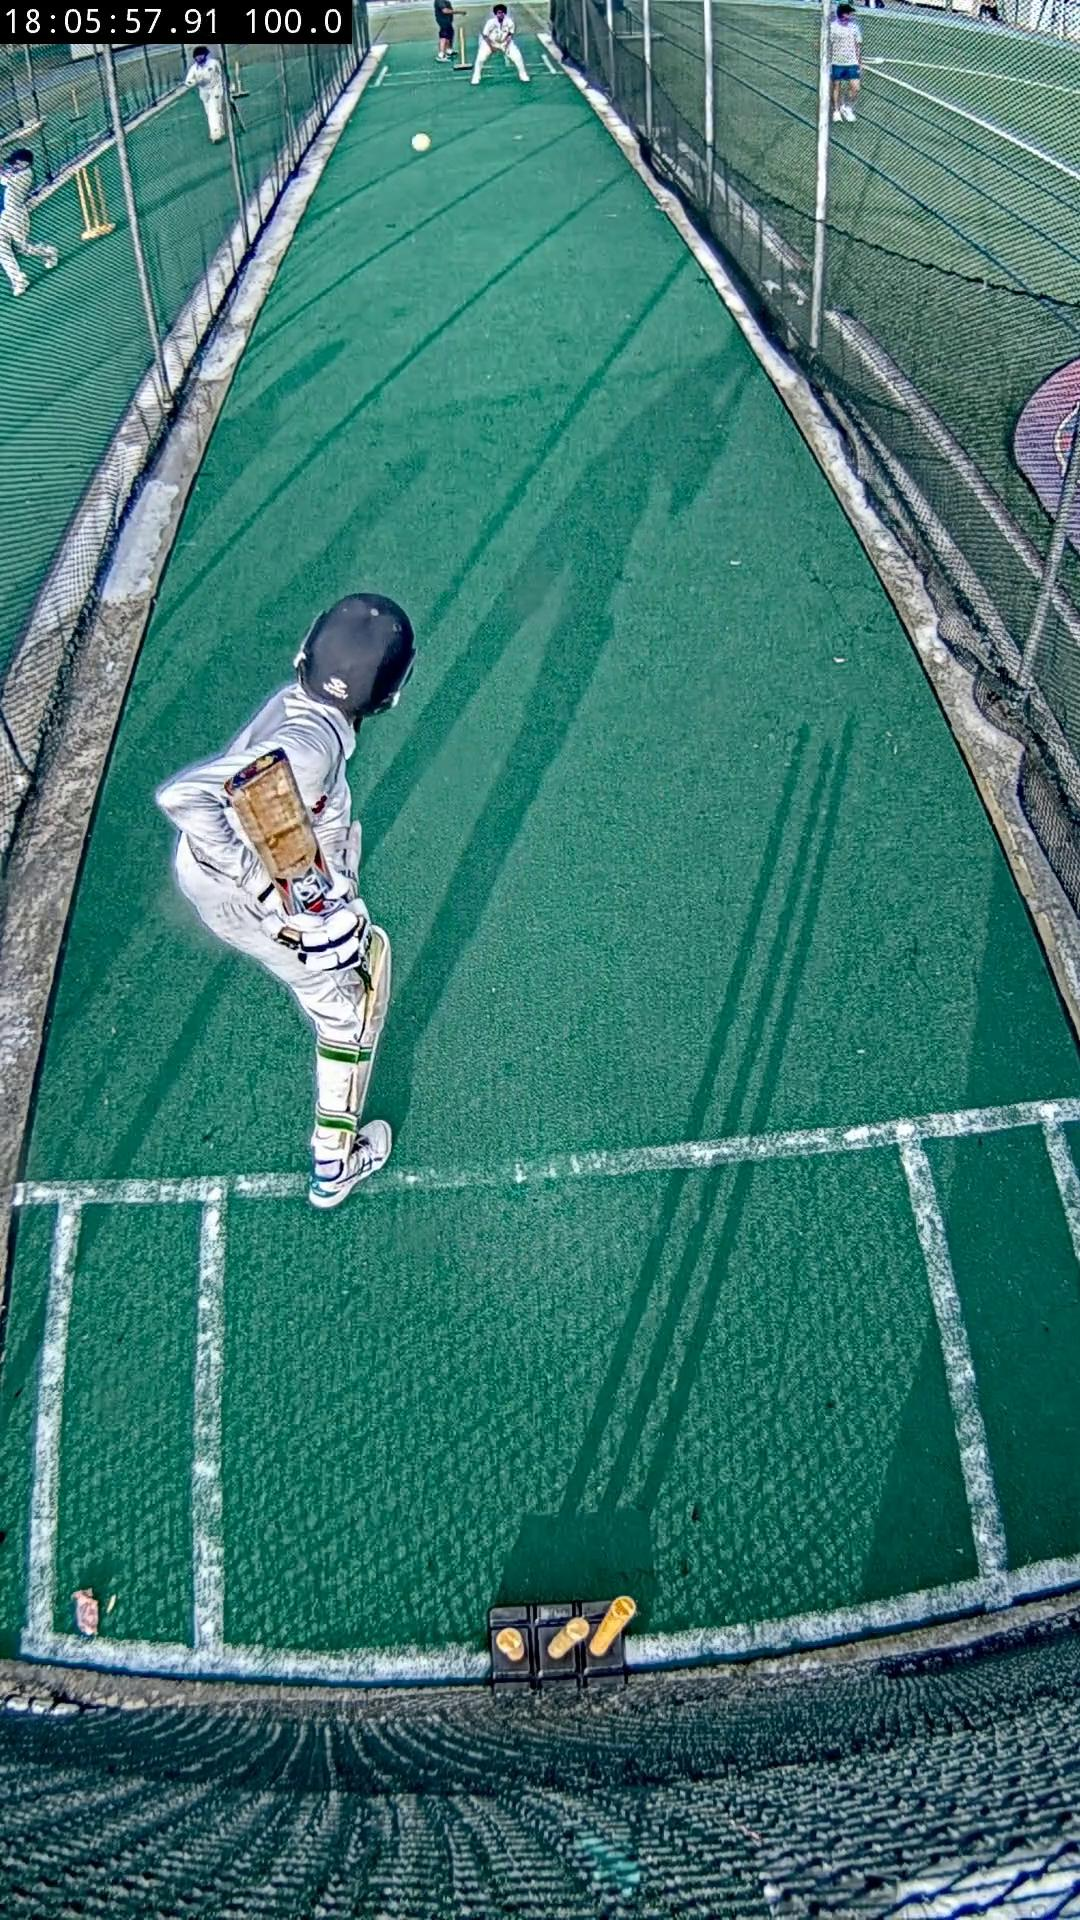ball: (413, 132, 431, 152)
bat: (225, 750, 330, 915)
gloves: (285, 899, 375, 972)
helmet: (297, 592, 413, 720)
pads: (364, 926, 397, 1056)
stumps: (488, 1597, 637, 1684)
